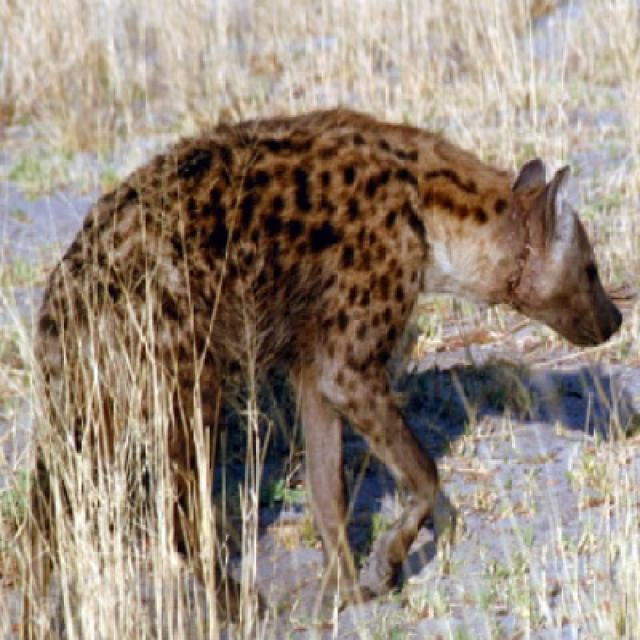hyena: (29, 109, 624, 638)
